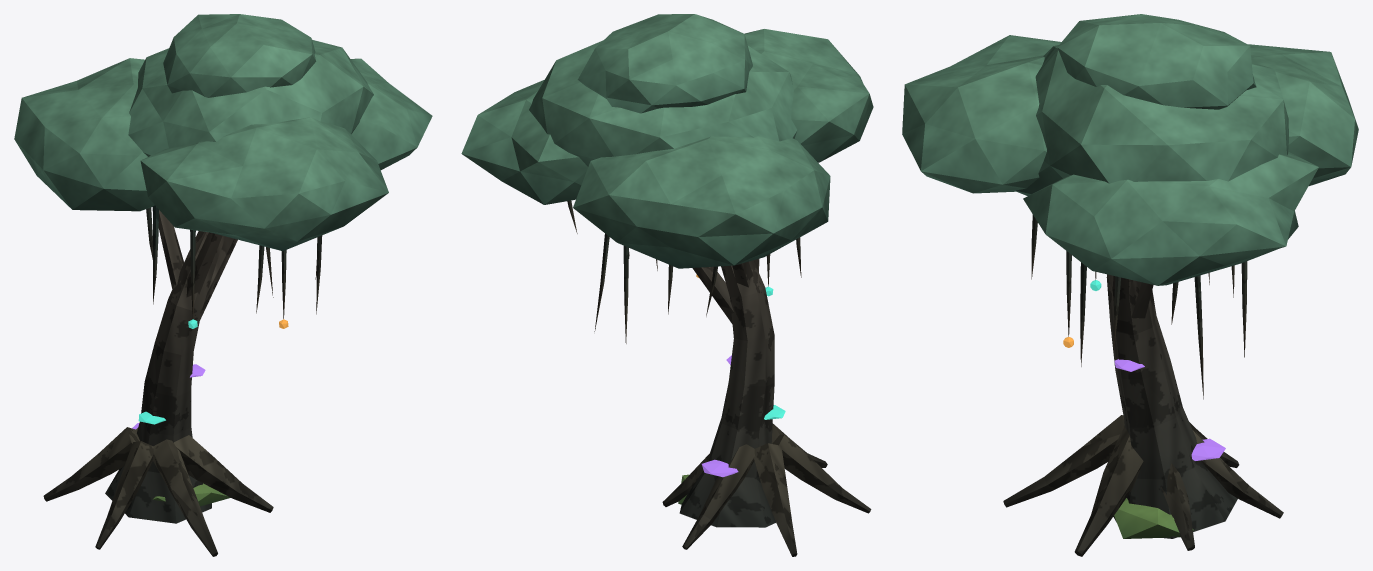
Rendered from fen_tree_a.glb.
3 renders of one model, left to right at view 1: azimuth 30°, elevation 25°; view 2: azimuth 150°, elevation 25°; view 3: azimuth 270°, elevation 25°, orthographic. The views are drawn at different scales.
Parts seen in each view (by area): view 1: fen_tree_a; view 2: fen_tree_a; view 3: fen_tree_a.
Boxes of the visible parts, box(x1,y1,x2,y2) form: fen_tree_a: box(14, 14, 432, 556); fen_tree_a: box(461, 14, 873, 556); fen_tree_a: box(902, 14, 1358, 556).
Bounding box in the file's own units: 6.27 × 7.99 × 6.17.
4 materials, 4 textured.
